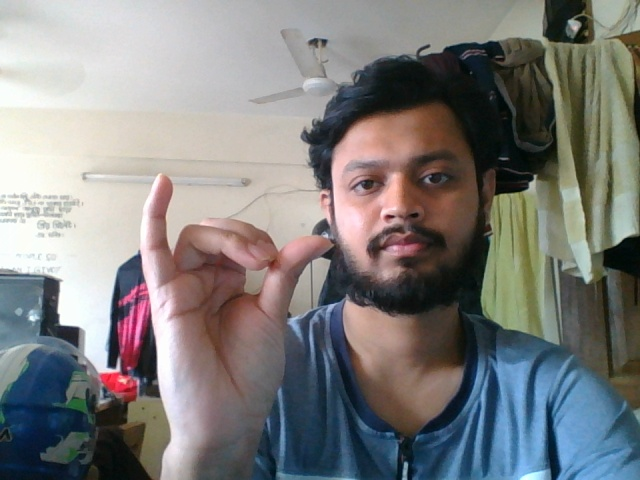oi: (133, 167, 340, 453)
